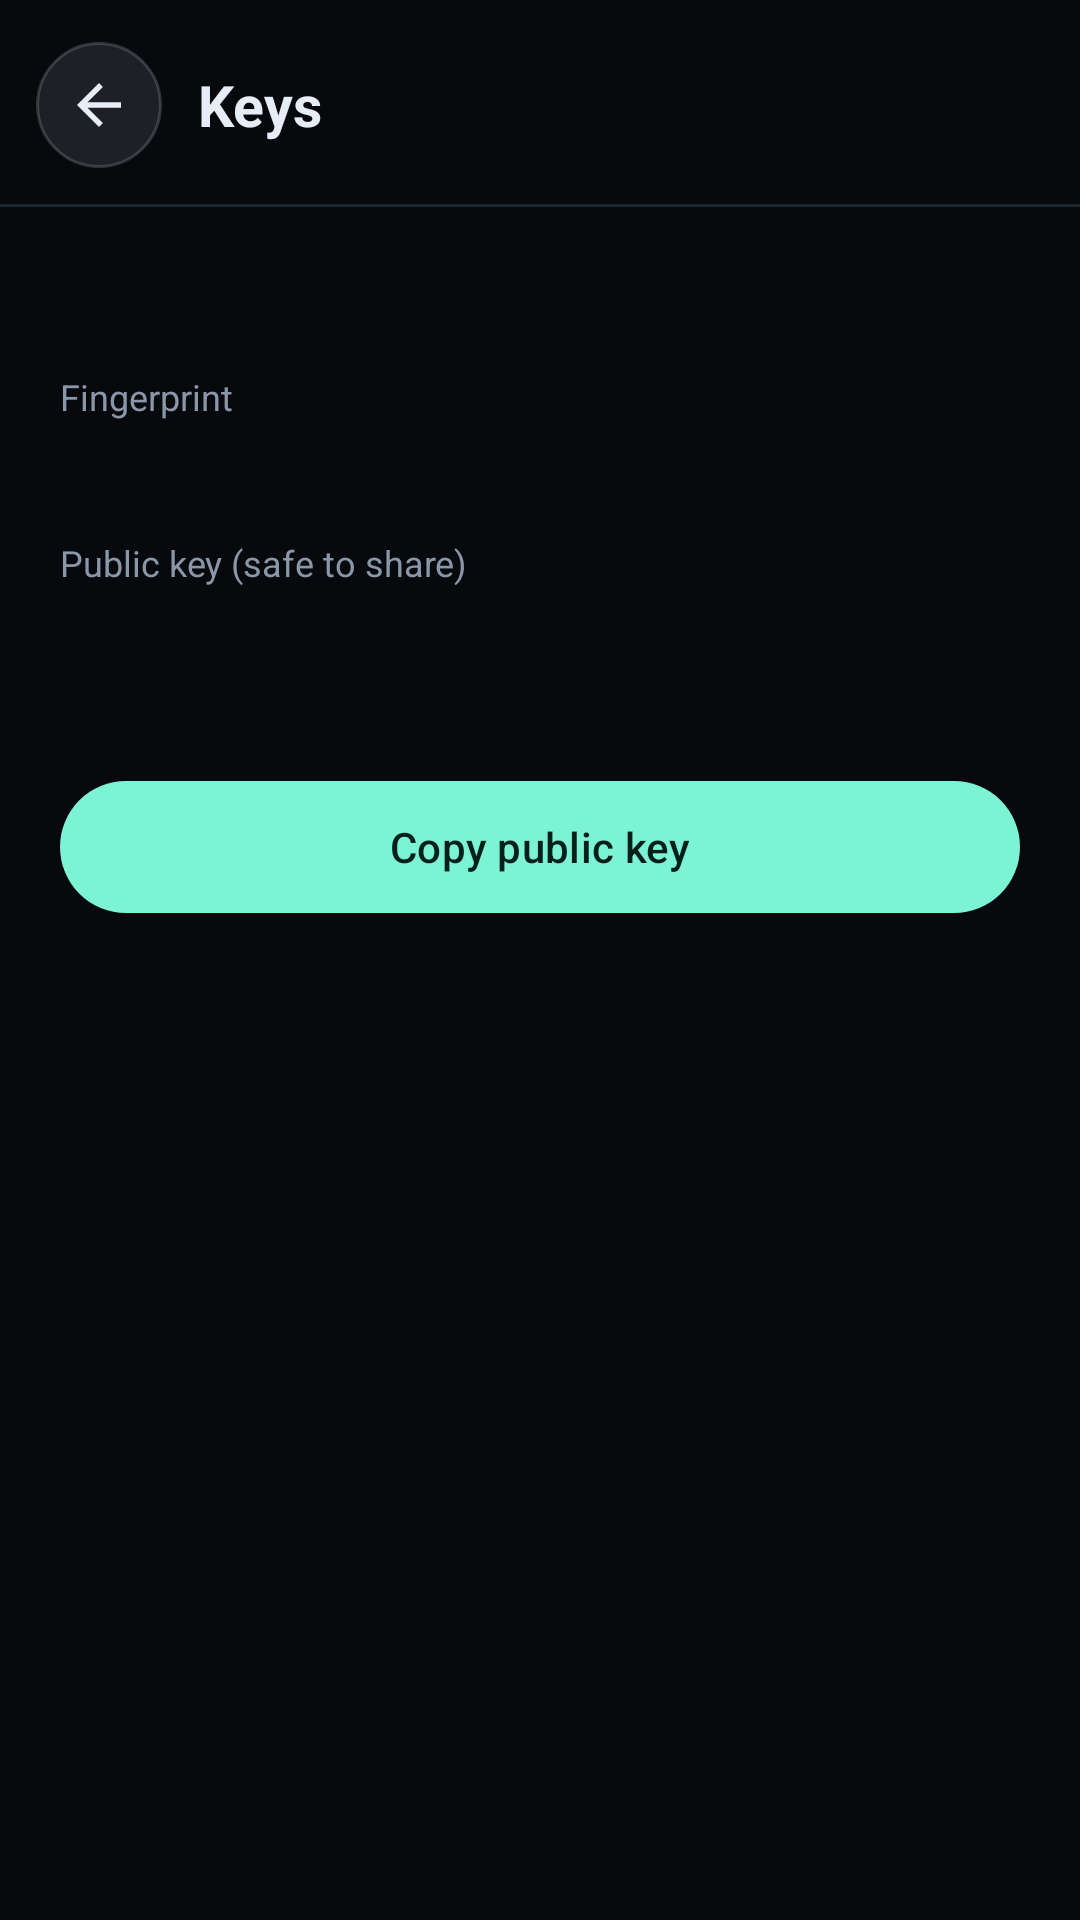

Where to tap for icons on this 1080×1920 app screen, as [x,y]:
Back: [99,105]
